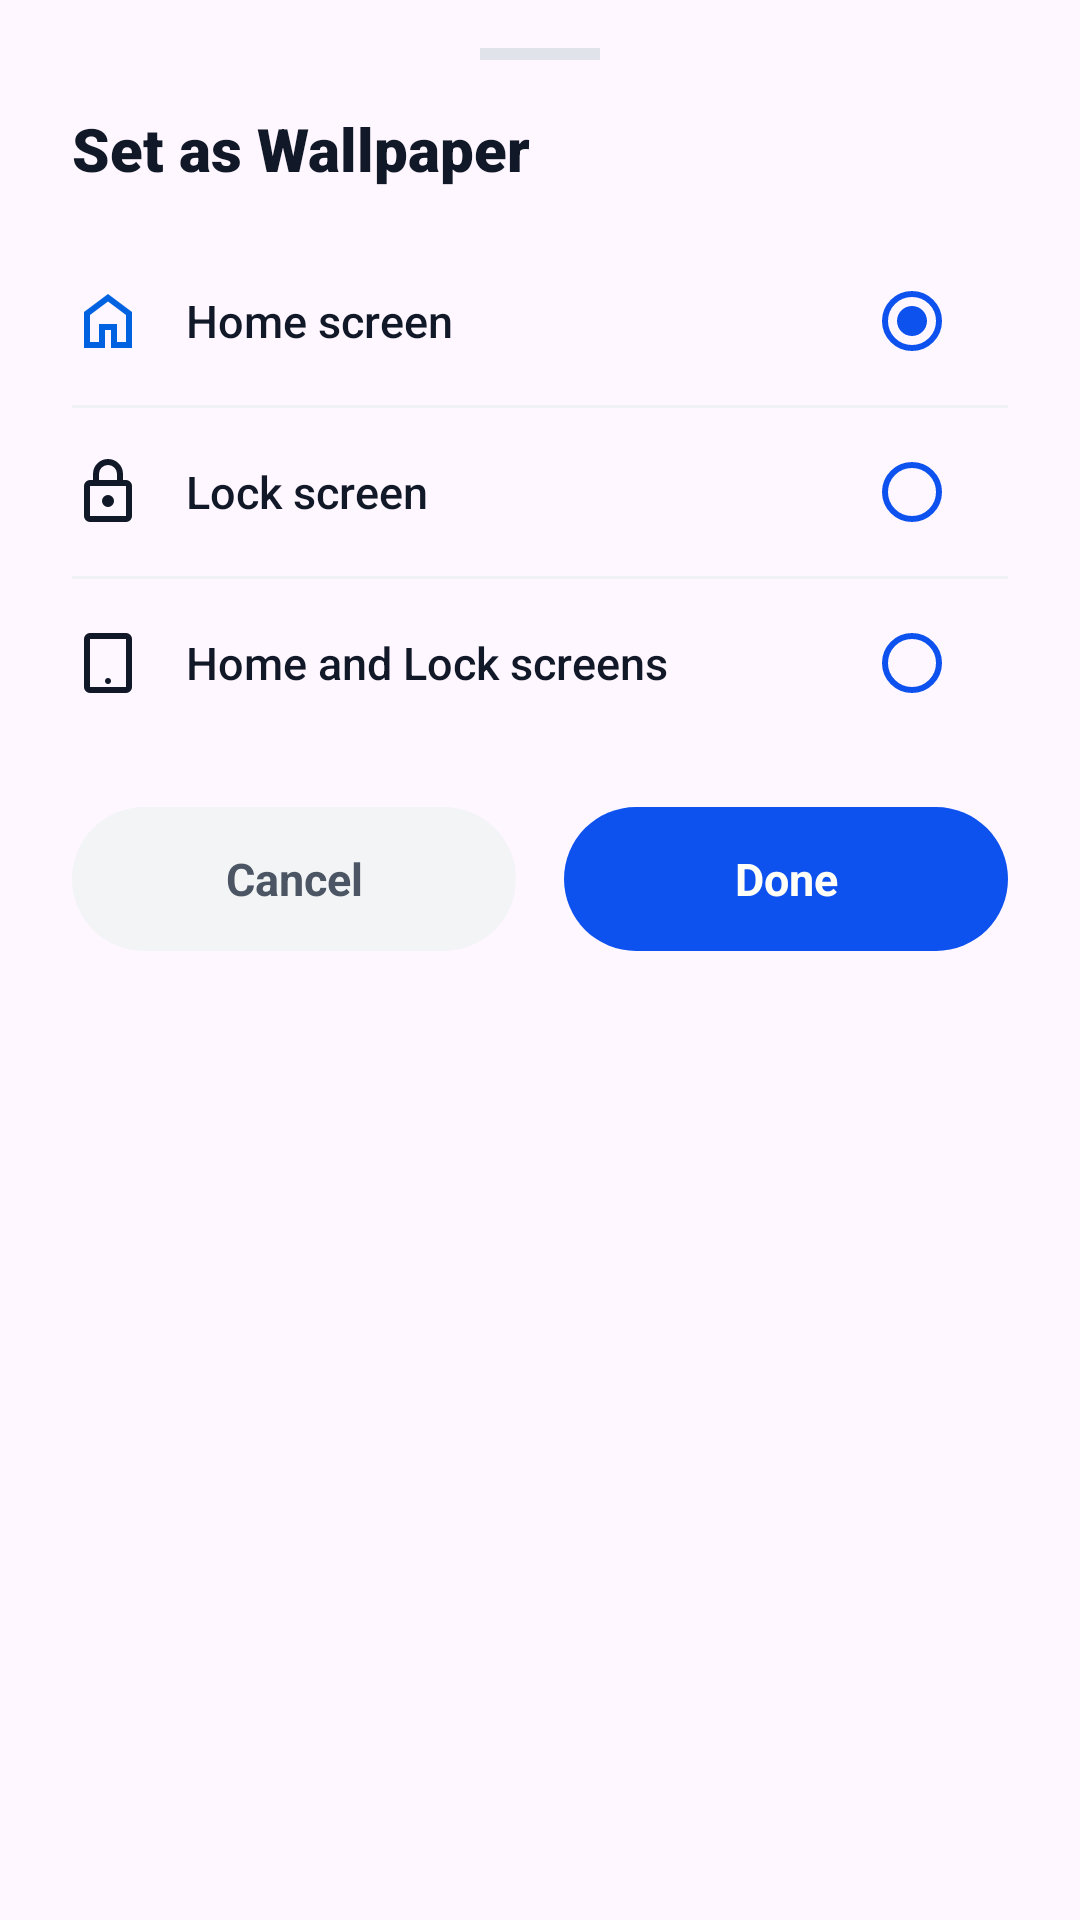

Where icons sit on this 1080 × 1920 app screen, as (x1, y1, x2, y2):
screens both: (84, 633, 132, 693)
